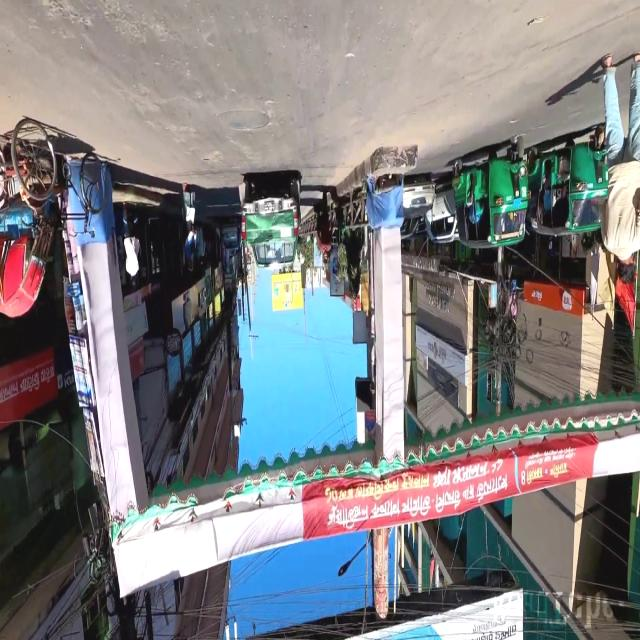silver: (400, 182, 434, 242)
white: (424, 185, 456, 244)
